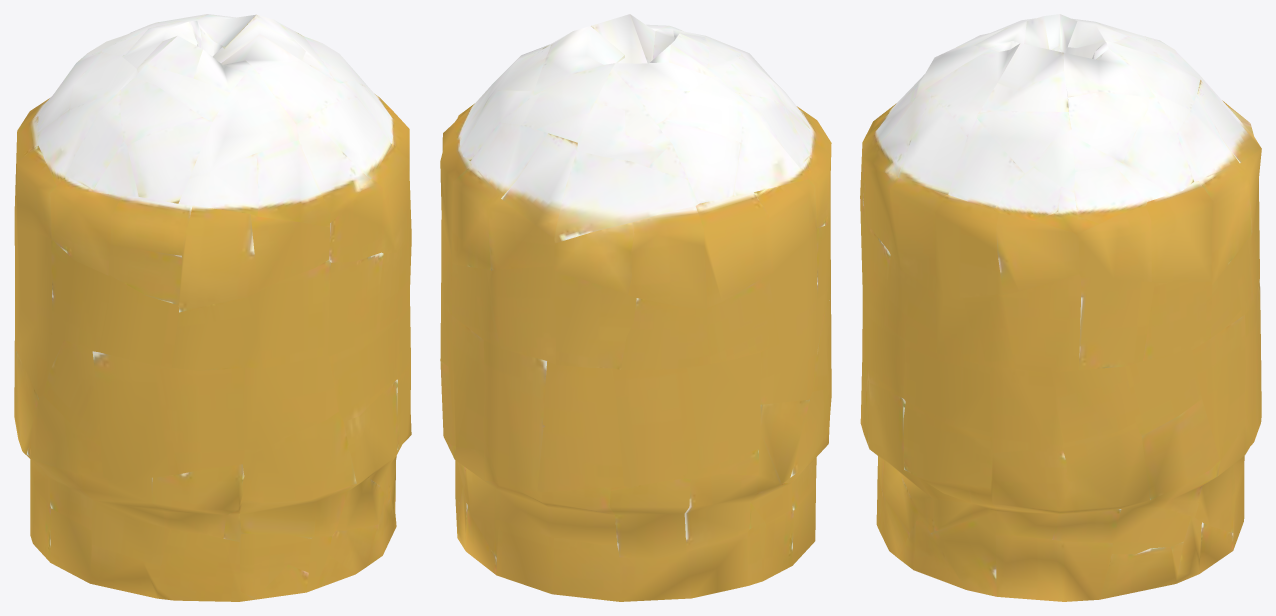
File: Rice.glb
3 views of the same model, side by side, from view 1: azimuth 30°, elevation 25°; view 2: azimuth 150°, elevation 25°; view 3: azimuth 270°, elevation 25° (orthographic).
Visible parts, largest first — view 1: Mesh_0; view 2: Mesh_0; view 3: Mesh_0.
Part boxes in pixels (bbox=[...]): Mesh_0: bbox=[14, 14, 411, 601]; Mesh_0: bbox=[440, 14, 831, 601]; Mesh_0: bbox=[860, 14, 1261, 601].
Size of the model in its own units: 0.1448 by 0.1964 by 0.1448.
1 material, 1 textured.
